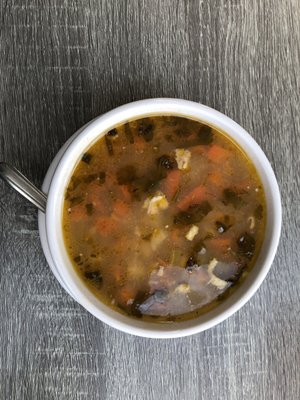burger: (0, 161, 47, 213)
sushi: (39, 101, 283, 340)
